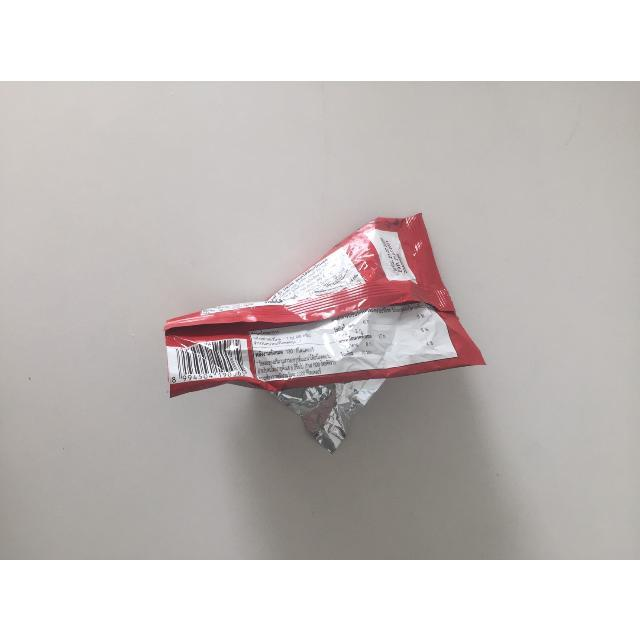Paquete de plastico: (165, 214, 484, 452)
